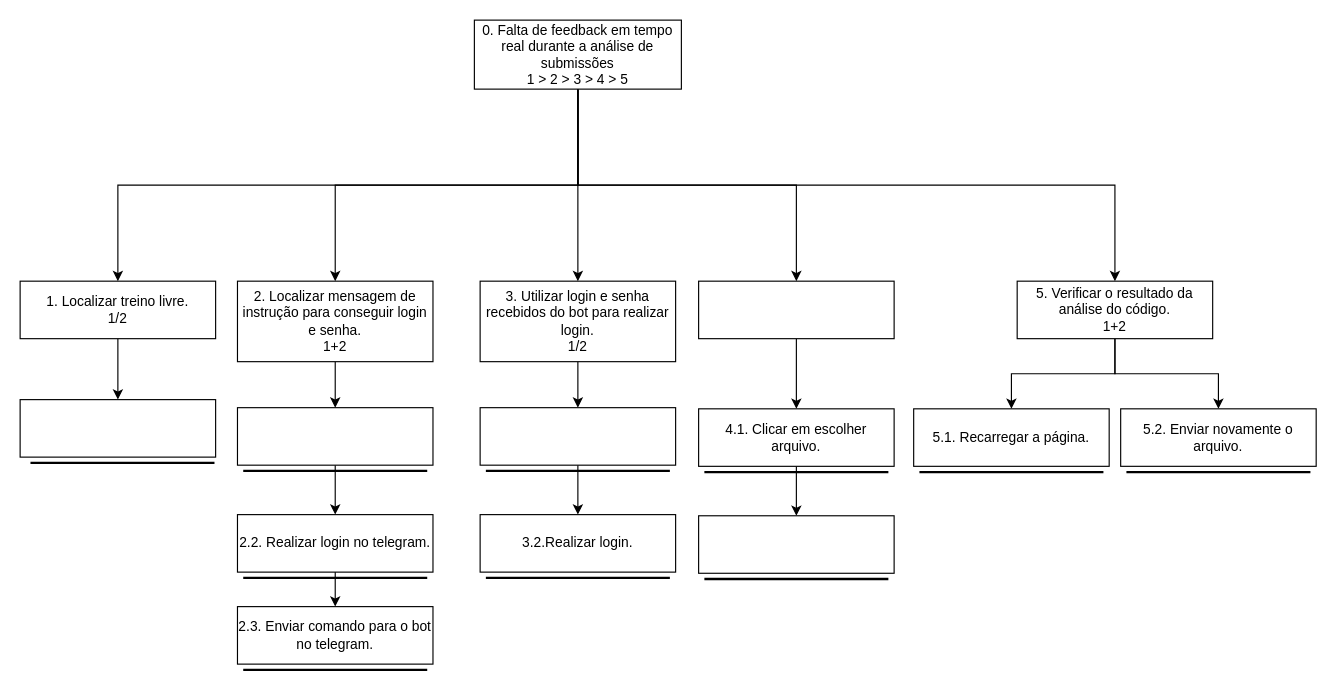
Some shapes in this 1336 by 697 pixel diagram are drawn without their labels. The box of each missing label's shape, as (x1, y1, x2, y2) in pixels:
1.1. Entrar no treino livre.: (19, 398, 216, 457)
2.1. Clicar para abrir o bot do telegram.: (236, 407, 433, 465)
3.1. Selecionar o contest para realizar o login.: (479, 407, 676, 465)
4. Submeter um código para avaliação. 1/2: (697, 280, 894, 339)
4.2. Encontrar e submeter arquivo.: (697, 515, 894, 573)
